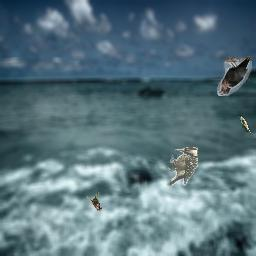Crow: (217, 56, 252, 96)
Cuckoo: (238, 114, 253, 138)
Sparrow: (87, 192, 102, 211)
Woodpecker: (167, 147, 198, 186)
